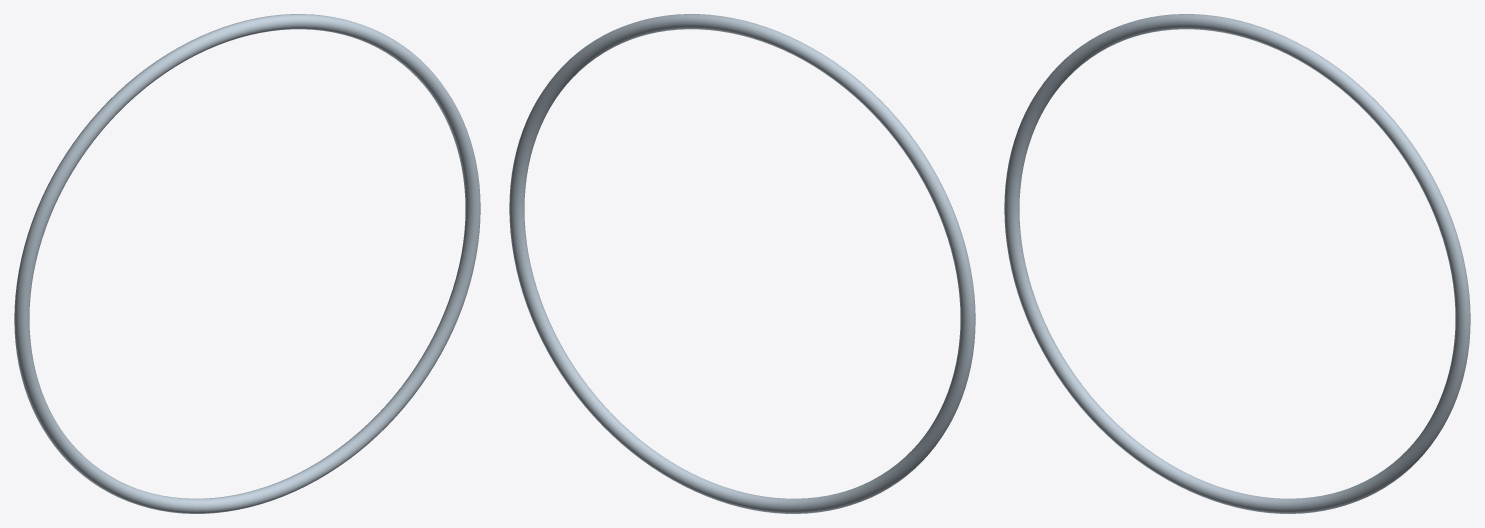
File: media-portal-rim.glb
3 views of the same model, side by side, from view 1: azimuth 30°, elevation 25°; view 2: azimuth 150°, elevation 25°; view 3: azimuth 330°, elevation 25° (orthographic).
Parts seen in each view (by area): view 1: rim; view 2: rim; view 3: rim.
Part boxes in pixels (box(x1,y1,x2,y2)): rim: box(14, 14, 480, 513); rim: box(509, 14, 975, 513); rim: box(1004, 14, 1470, 513).
Size of the model in its own units: 1.75 by 1.75 by 0.05.
